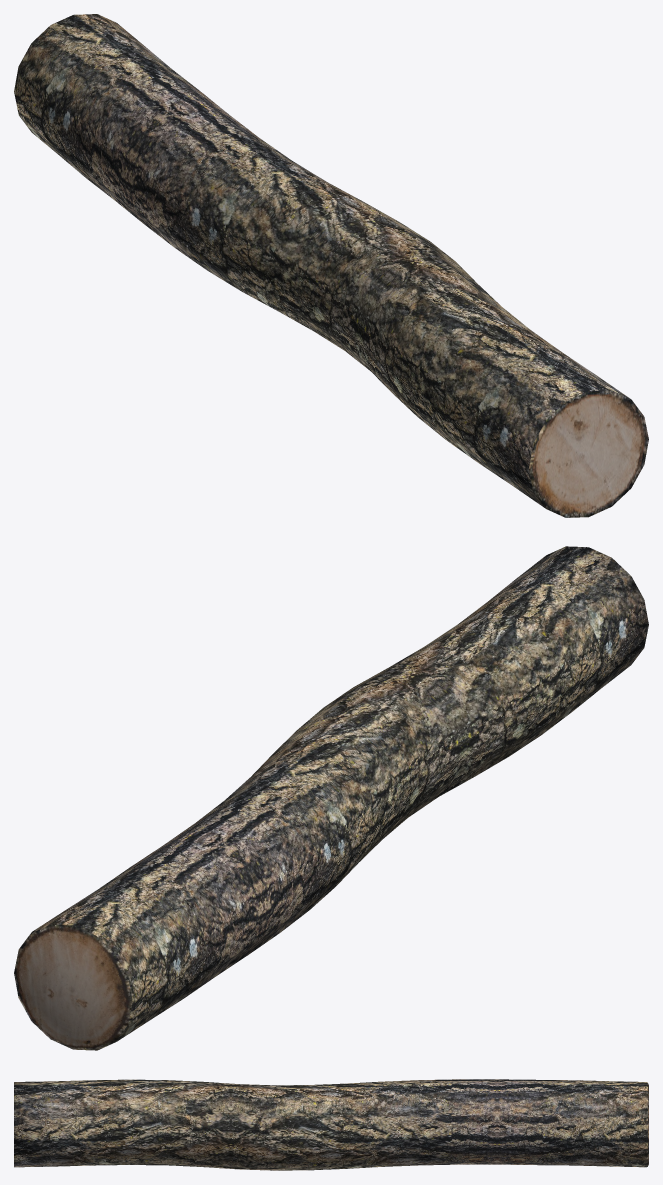
File: log.fbx
The picture shows the model from 3 angles, top to bottom: view 1: azimuth 30°, elevation 25°; view 2: azimuth 150°, elevation 25°; view 3: azimuth 270°, elevation 25°; orthographic projection. The views are drawn at different scales.
Parts seen in each view (by area): view 1: Log05; view 2: Log05; view 3: Log05.
Part boxes in pixels (x1,y1,x2,y2): Log05: (14, 14, 648, 517); Log05: (14, 546, 648, 1050); Log05: (14, 1079, 648, 1170).
Bounding box in the file's own units: 1.65 × 10.42 × 1.43.
1 material, 1 textured.
